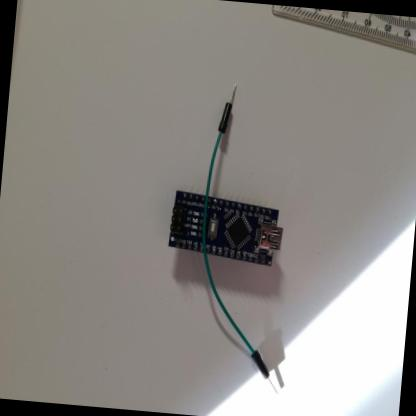Arduino_Nano: (163, 187, 289, 271)
